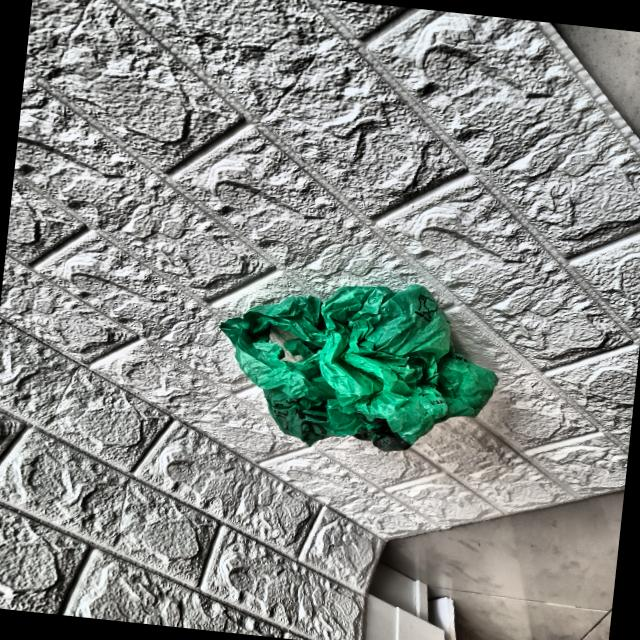plastic bag: (222, 270, 496, 463)
